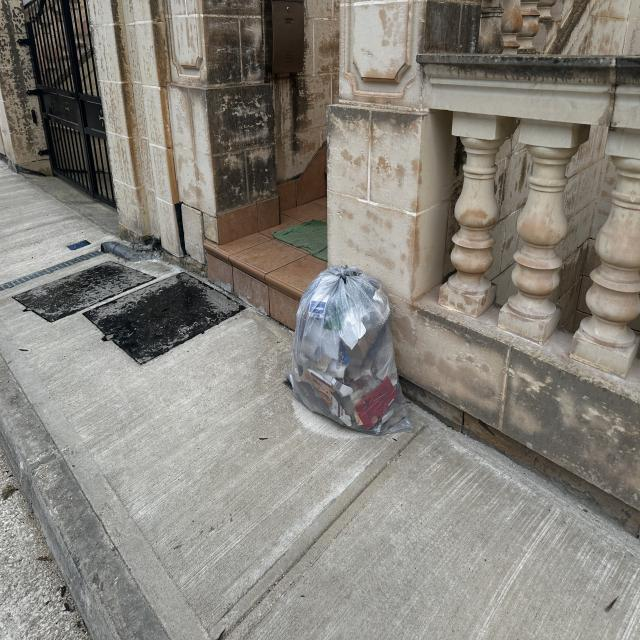Recyclable Material -Grey Bags-: (284, 264, 415, 437)
